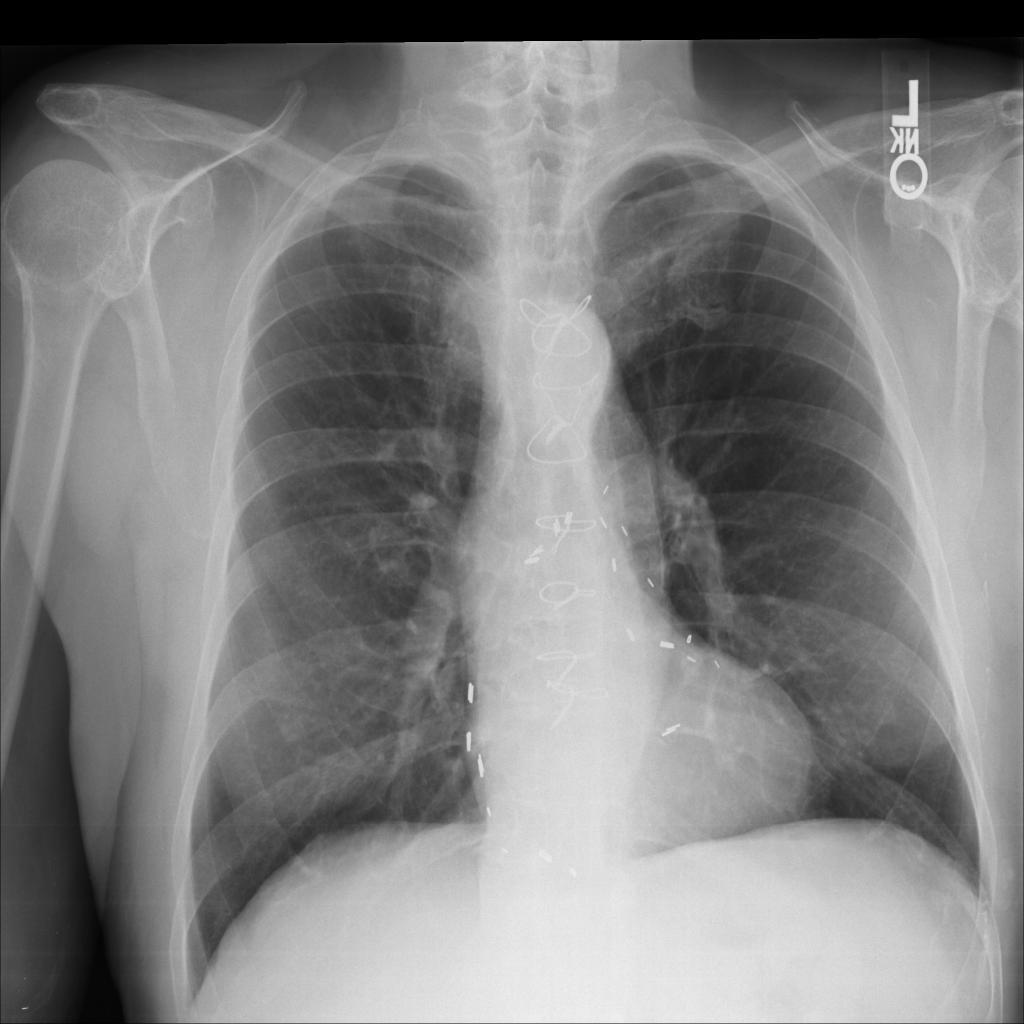Nodule: (98, 278, 117, 308)
